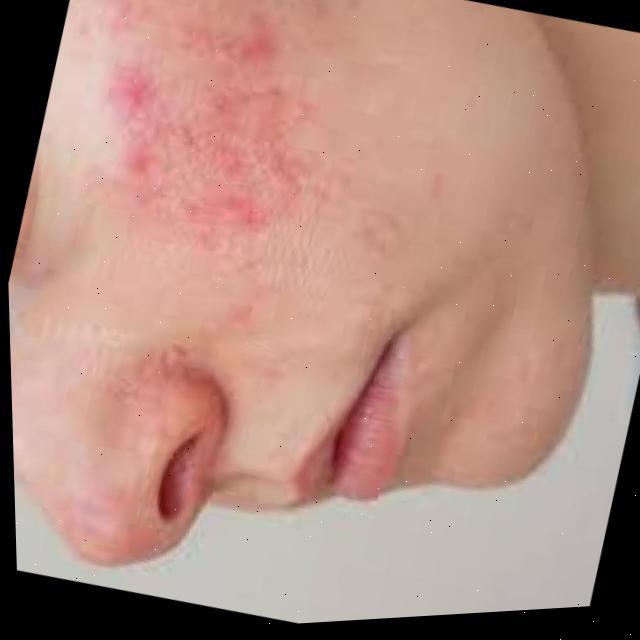Rosacea: (68, 0, 359, 266)
